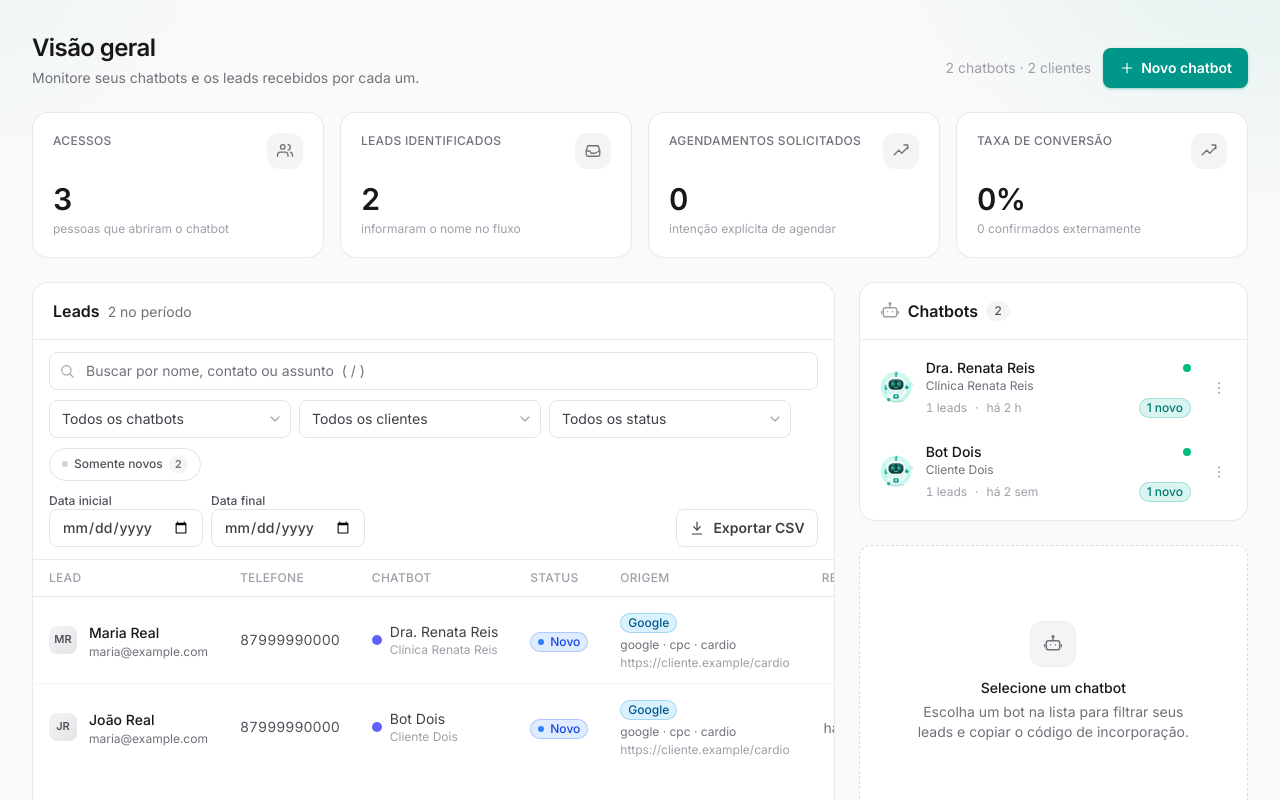
Scenario: DashboardHome — funil real › opens a modal with source, answers and flow progress
This screenshot has width=1280, height=800.
Click the button "Maria Real". click: x=124, y=633
box: [89,623,159,643]
(page scrolled)
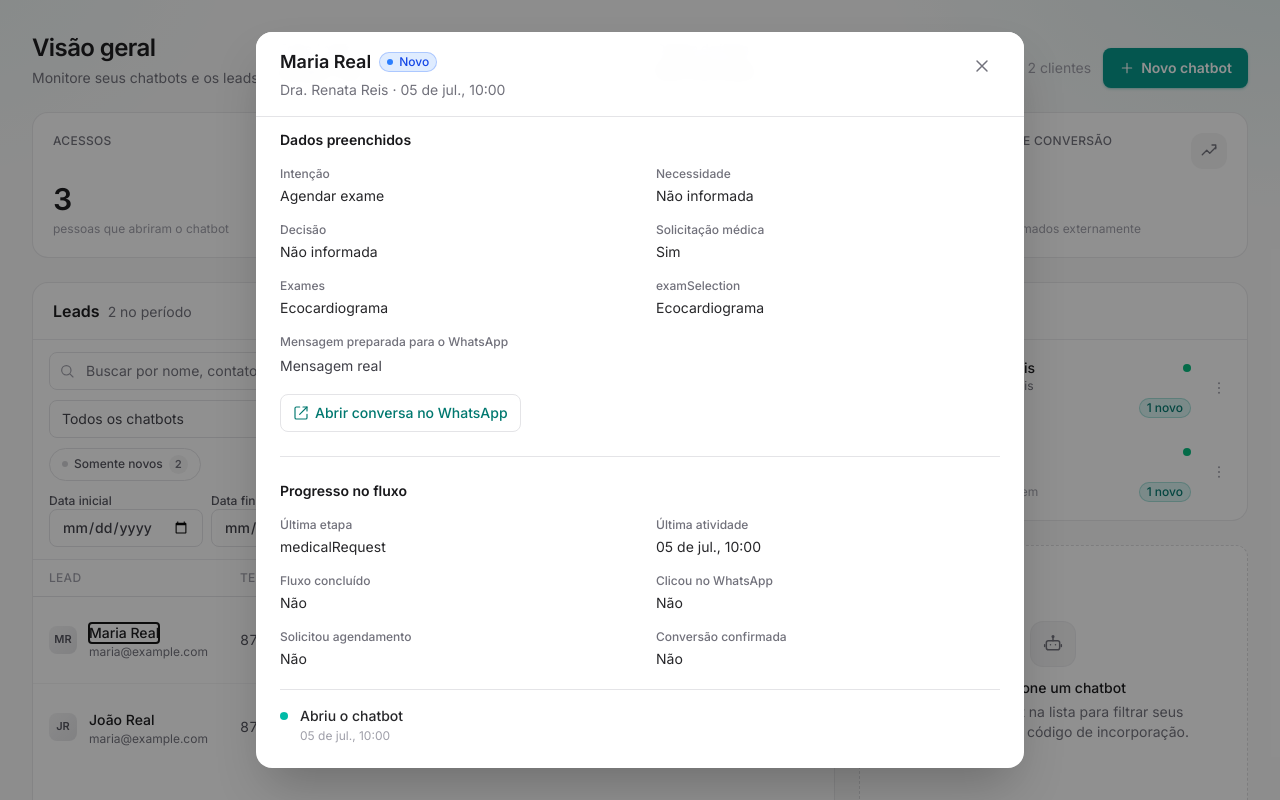
Result: the text "medicalRequest" is shown at [280,538,386,555]
